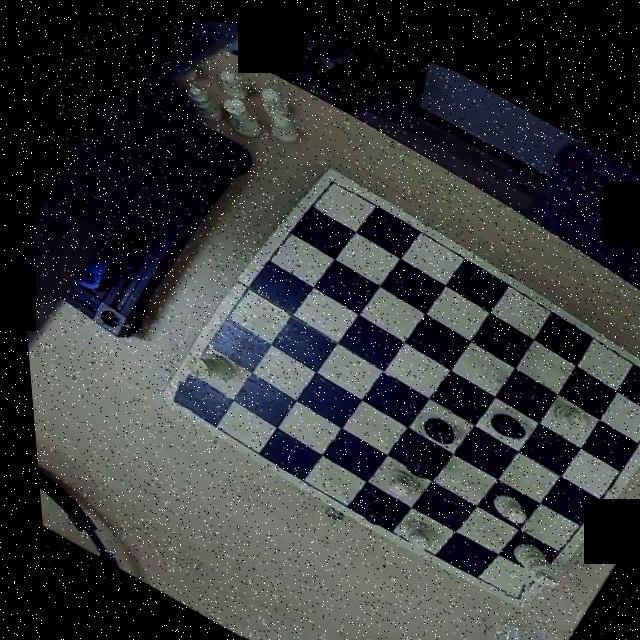chess-table-corners: (306, 158, 355, 206), (151, 370, 200, 418), (484, 563, 528, 603), (634, 354, 640, 394)
